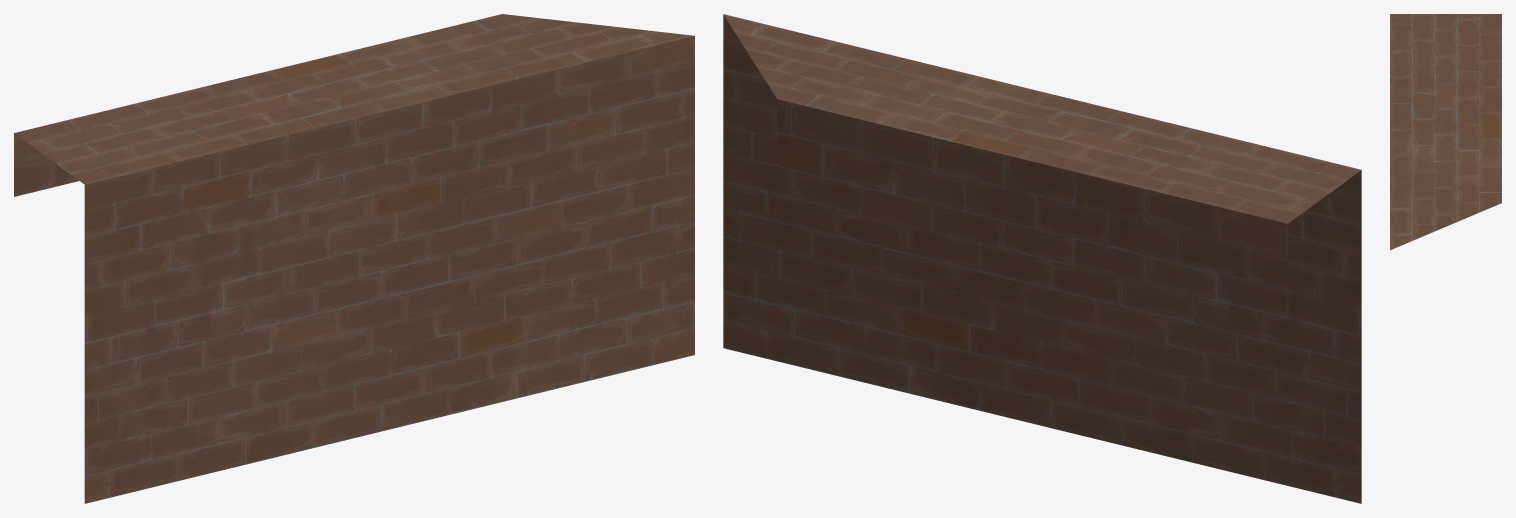
The model's file is Cornice_Brick_R.glb.
The picture shows the model from 3 angles, left to right: view 1: azimuth 30°, elevation 25°; view 2: azimuth 150°, elevation 25°; view 3: azimuth 270°, elevation 25°; orthographic projection. The views are drawn at different scales.
Parts seen in each view (by area): view 1: Cornice_Brick_R; view 2: Cornice_Brick_R; view 3: Cornice_Brick_R.
Boxes of the visible parts, x1,y1,x2,y2 form: Cornice_Brick_R: [14, 14, 694, 503]; Cornice_Brick_R: [723, 14, 1361, 503]; Cornice_Brick_R: [1390, 14, 1501, 250].
Bounding box in the file's own units: 2 × 1 × 0.4.
1 material, 1 textured.
